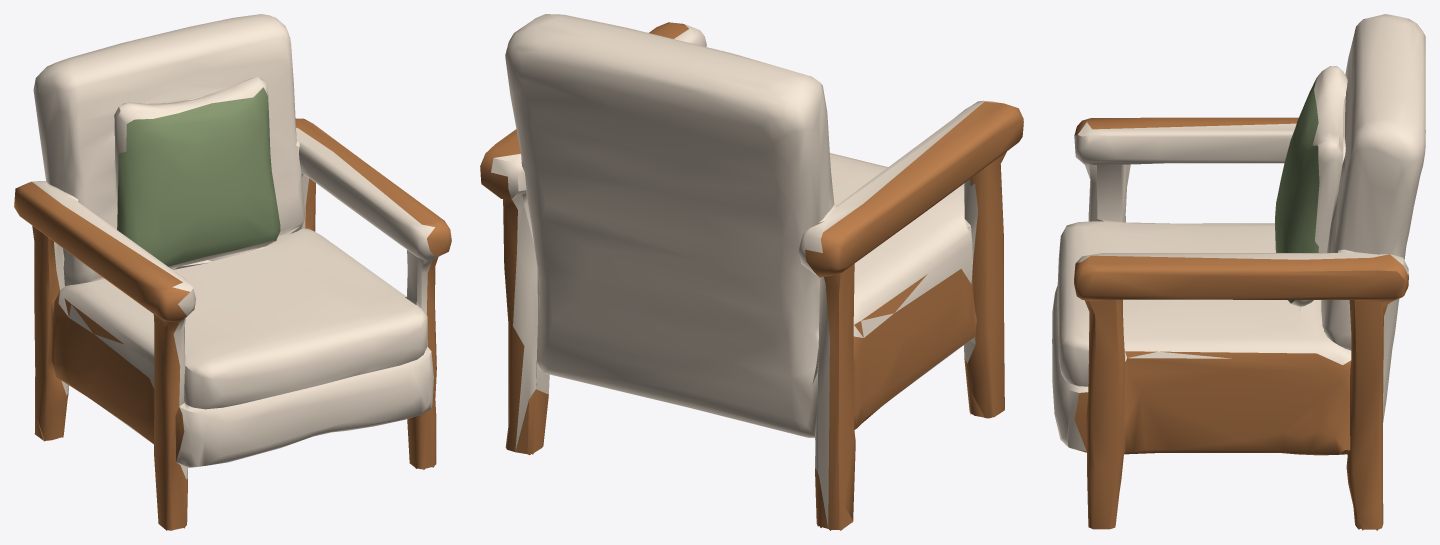
Rendered from armchair.glb.
The picture shows the model from 3 angles, left to right: view 1: azimuth 30°, elevation 25°; view 2: azimuth 150°, elevation 25°; view 3: azimuth 270°, elevation 25°; orthographic projection. The views are drawn at different scales.
Parts seen in each view (by area): view 1: armchair_fabric, armchair_wood, armchair_pillow; view 2: armchair_fabric, armchair_wood; view 3: armchair_fabric, armchair_wood, armchair_pillow.
Part boxes in pixels (x1,y1,x2,y2): armchair_fabric: (32,14,436,479); armchair_wood: (14,118,451,530); armchair_pillow: (117,87,280,266); armchair_fabric: (491,14,1002,527); armchair_wood: (480,22,1023,530); armchair_fabric: (1052,14,1425,451); armchair_wood: (1074,117,1408,530); armchair_pillow: (1275,78,1319,303).
Bounding box in the file's own units: 0.8801 × 1.04 × 0.8994.
